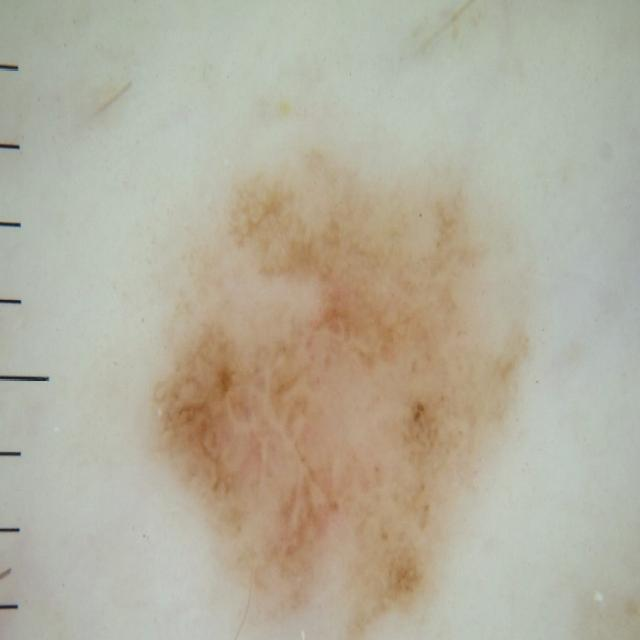Melanoma: (101, 140, 598, 630)
